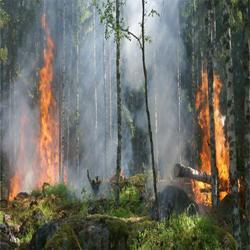fire: (37, 70, 59, 176), (214, 106, 231, 185)
